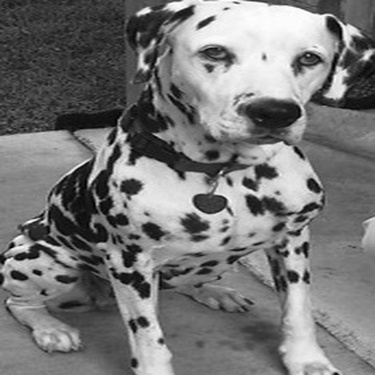dog: (5, 2, 373, 374)
